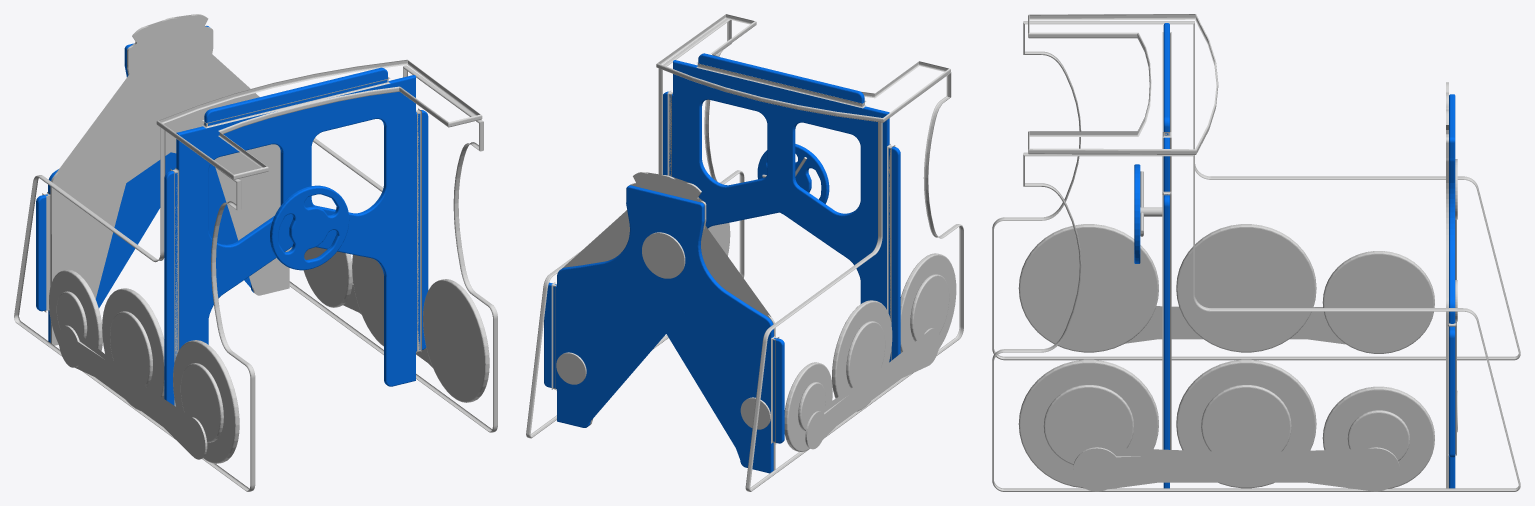
3 views of the same model, side by side, from view 1: azimuth 30°, elevation 25°; view 2: azimuth 150°, elevation 25°; view 3: azimuth 270°, elevation 25° (orthographic). The views are drawn at different scales.
Visible parts, largest first — view 1: D_19_4; view 2: D_19_4; view 3: D_19_4.
Boxes of the visible parts, x1,y1,x2,y2 form: D_19_4: [14, 14, 497, 491]; D_19_4: [526, 14, 963, 491]; D_19_4: [992, 14, 1520, 491].
Bounding box in the file's own units: 110 × 126 × 169.
